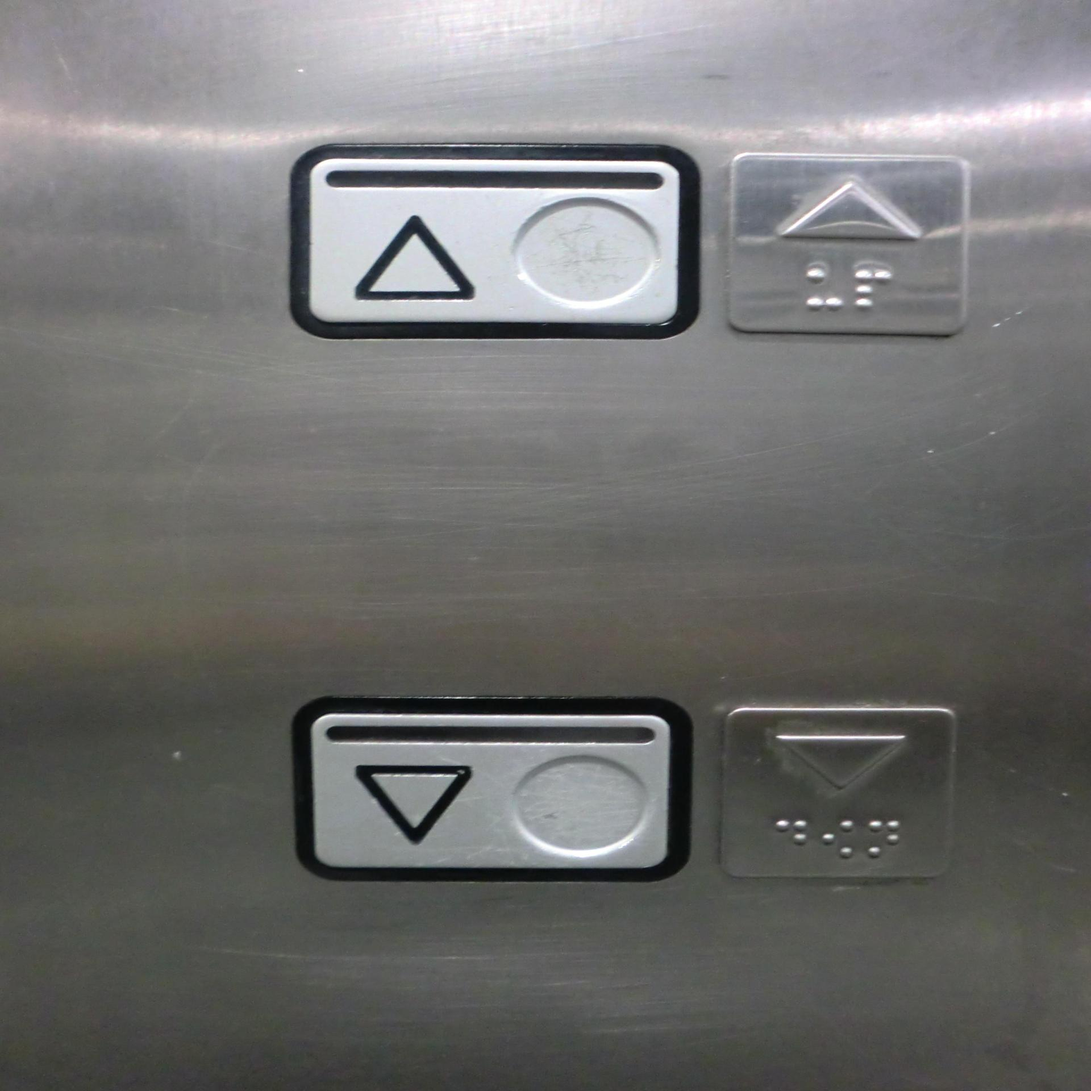down: (281, 682, 699, 886), (706, 686, 982, 901)
up: (278, 132, 703, 351), (710, 136, 987, 351)
